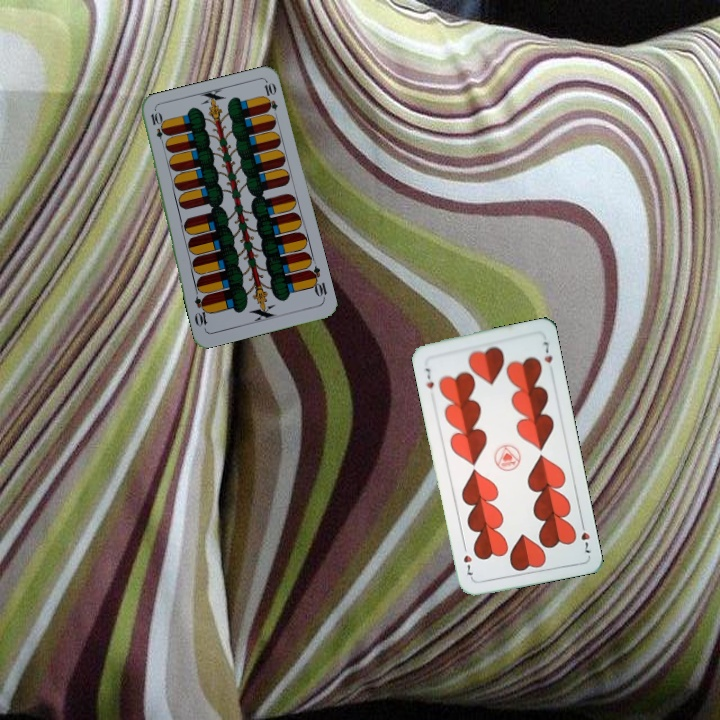E10: (304, 262, 330, 302), (147, 108, 168, 148)
H7: (577, 517, 595, 557), (421, 364, 436, 391)
